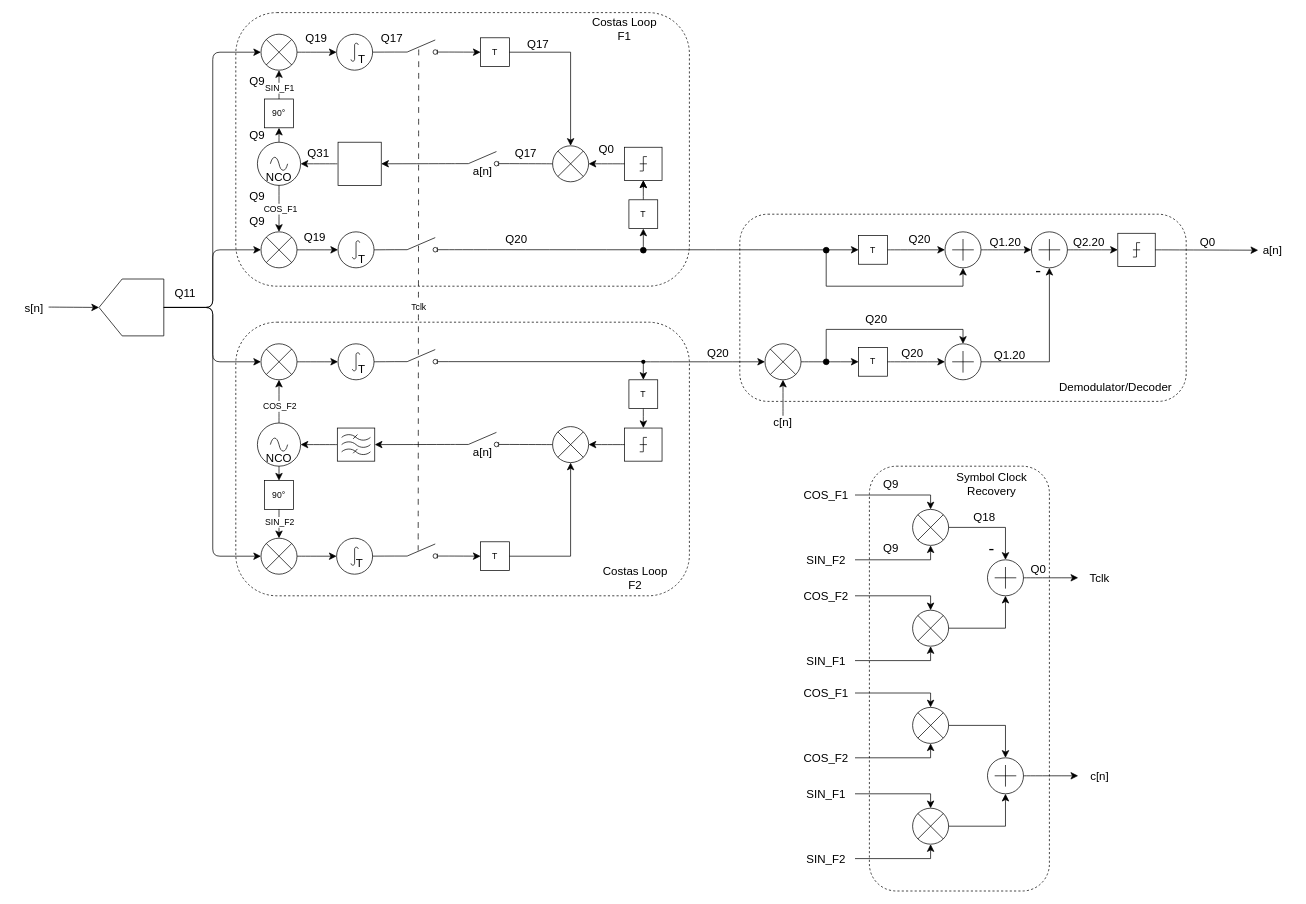
Some shapes in this 1306 by 904 pixel diagram are drawn without their labels. Here are the shapes that lost their labels. From the top down, the centre of each, then its label:
[359,163]: PI Control
[131,307]: ADC
